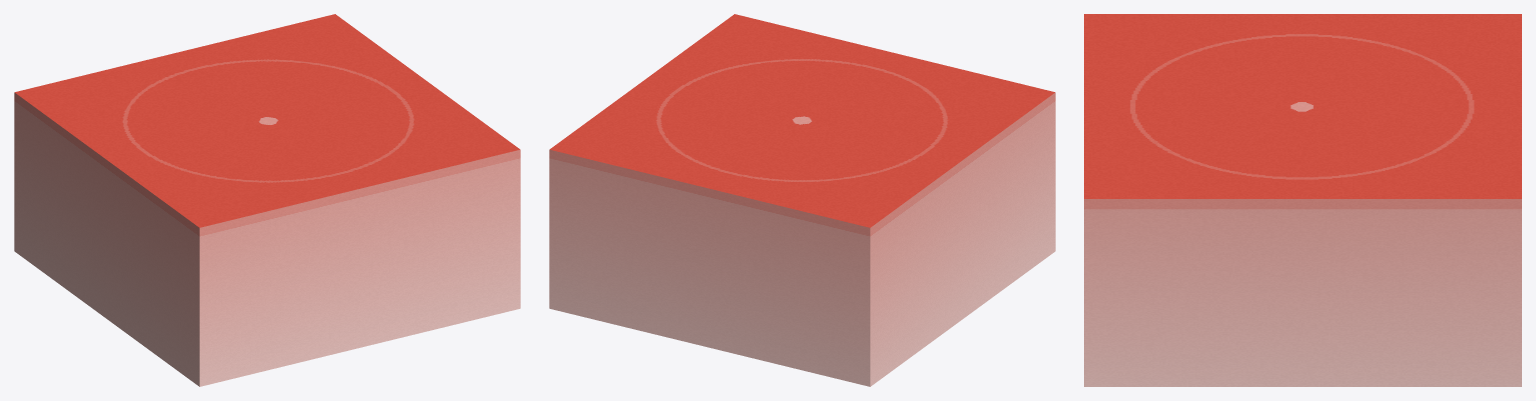
Rendered from box_small_red.glb.
3 views of the same model, side by side, from view 1: azimuth 30°, elevation 25°; view 2: azimuth 150°, elevation 25°; view 3: azimuth 270°, elevation 25° (orthographic). The views are drawn at different scales.
Parts seen in each view (by area): view 1: box_small_red; view 2: box_small_red; view 3: box_small_red.
Part boxes in pixels (x1,y1,x2,y2): box_small_red: [14, 14, 520, 386]; box_small_red: [549, 14, 1055, 386]; box_small_red: [1084, 14, 1521, 386].
Bounding box in the file's own units: 1.9 × 0.9 × 1.9.
Materials: 2 (2 with a texture image).
